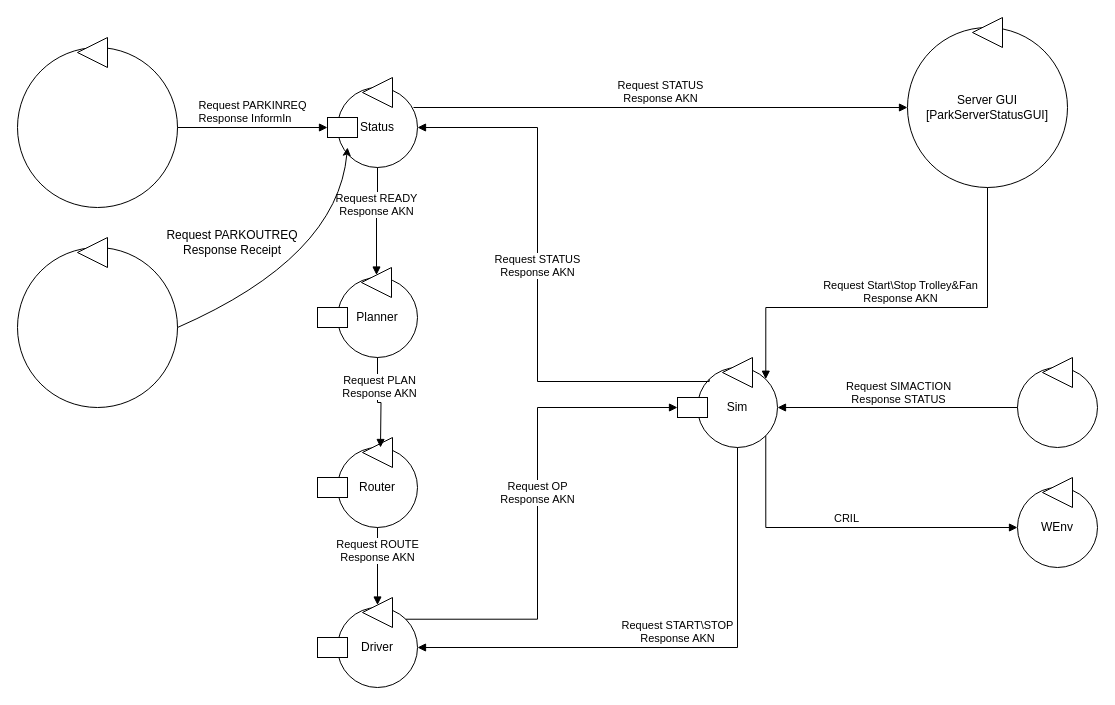
Some shapes in this 1115 by 705 pixel diagram are drawn without their labels. Each missing label, with the box of its shape:
Client GUI ParkIn [ParkServiceGUI]: (16, 46, 178, 208)
Client GUI ParkOut [ParkServiceGUI]: (16, 246, 178, 408)
Sim GUI: (1016, 366, 1098, 448)
